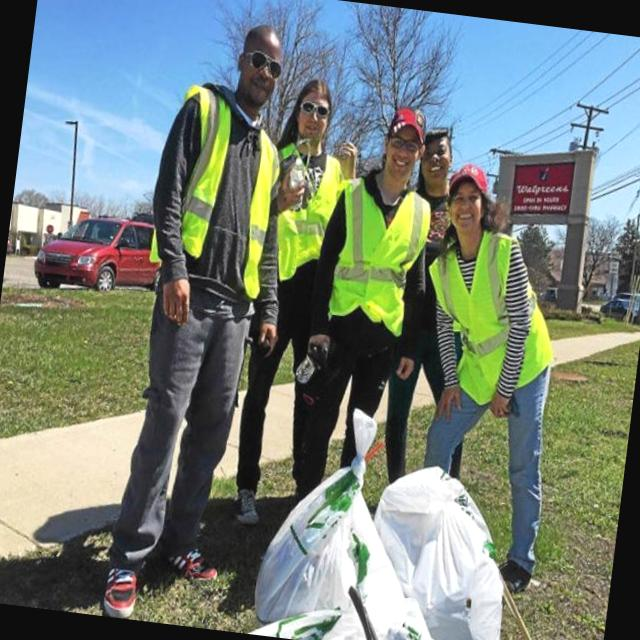vest: (162, 88, 282, 294), (428, 238, 516, 410), (328, 184, 427, 336), (259, 140, 342, 296)
